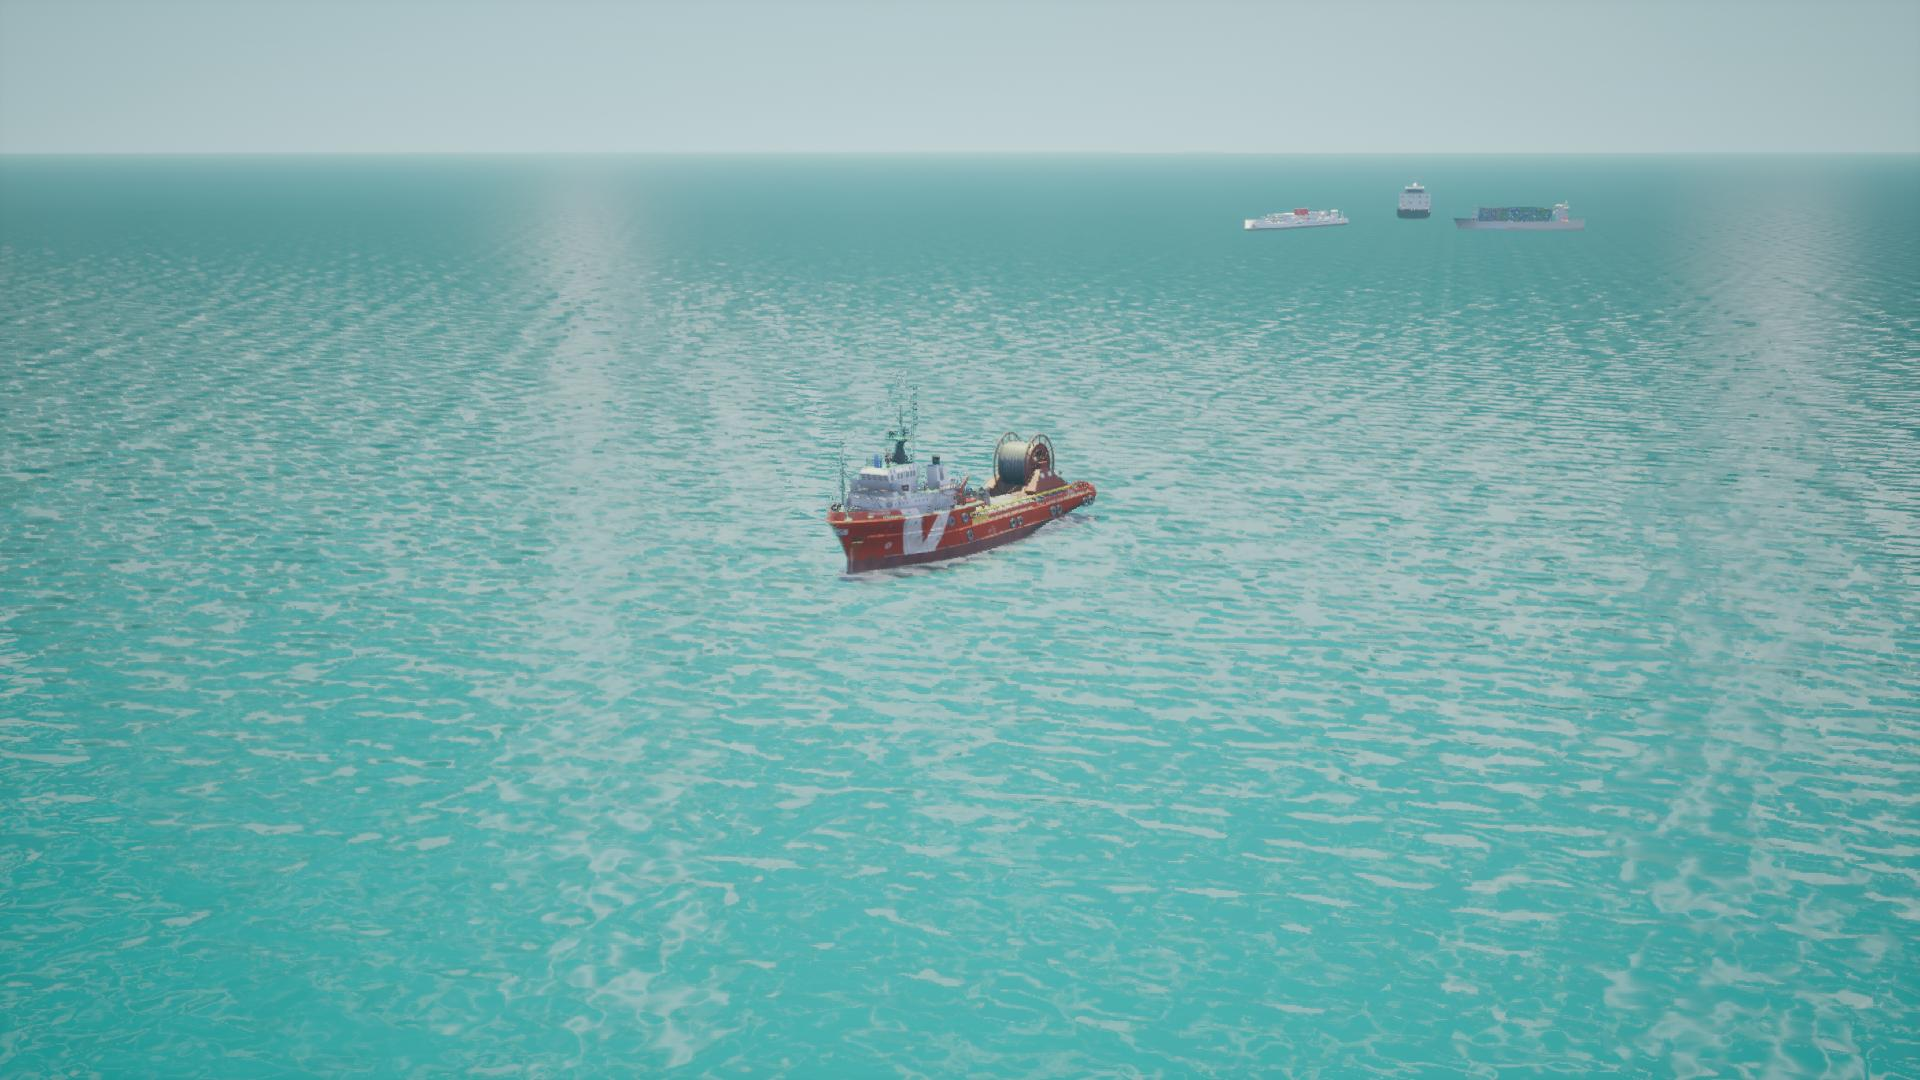Tug Boat: (820, 434, 1095, 579)
